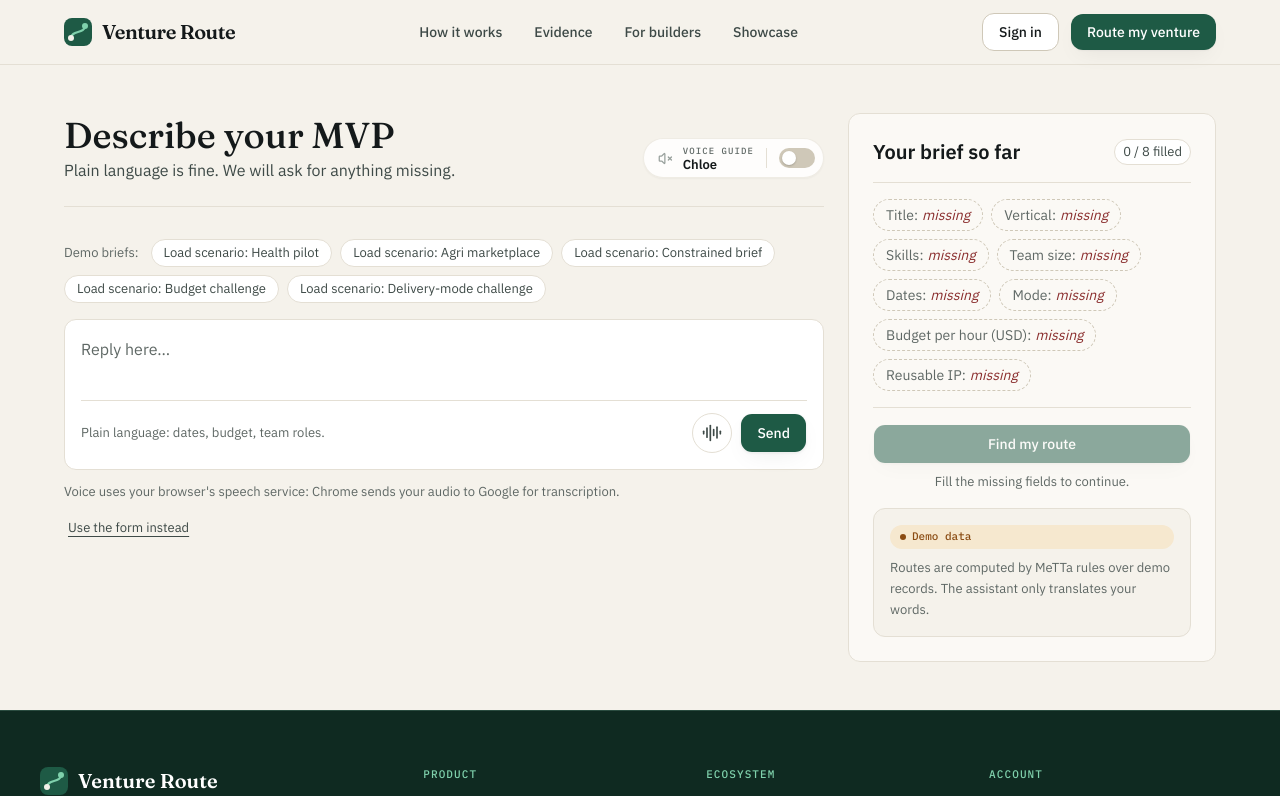
Chloe on /route › a no-speech failure in voice mode just reopens the mic: no error line, nothing spoken, nothing sent (D-55)
What coordinates should you click on to do the following:
click the switch named "Voice: Chloe"
I would click on:
 (797, 158)
Its box is [779,148,815,168].
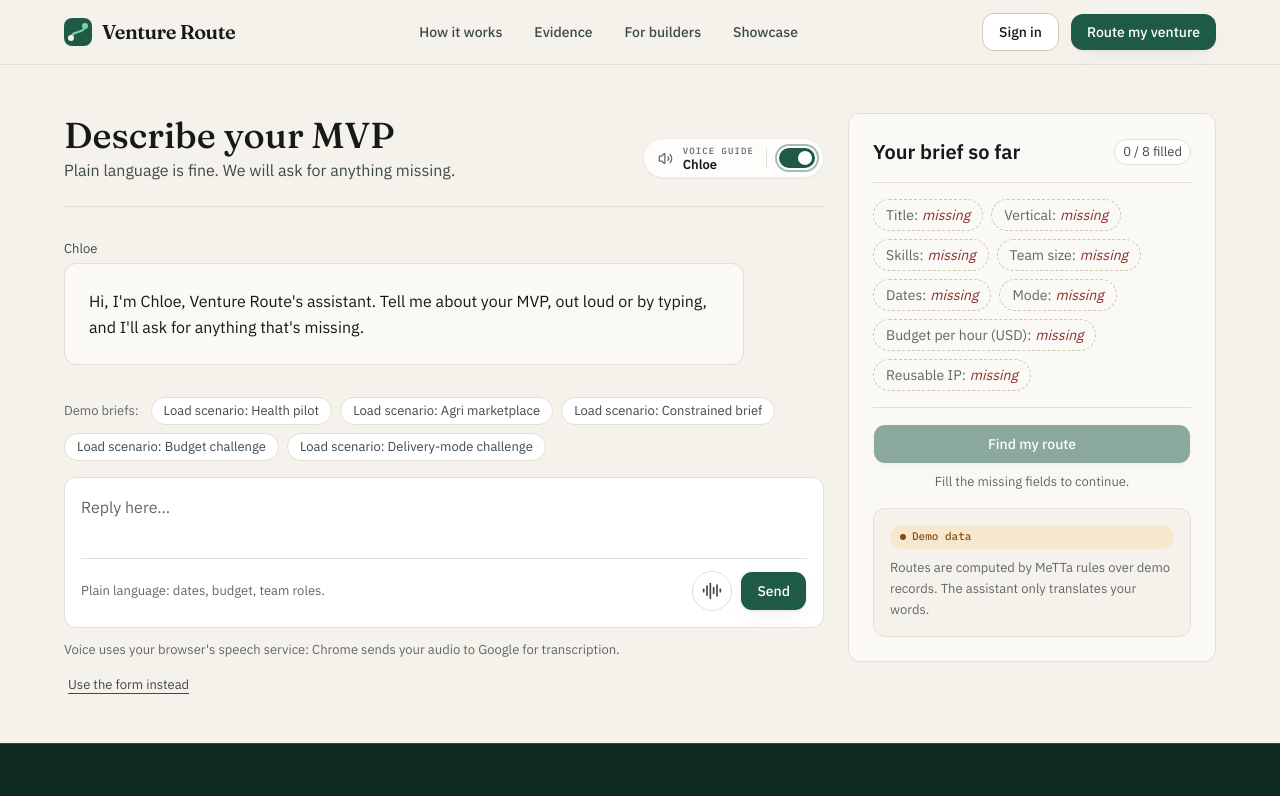
Expected: the switch named "Voice: Chloe" is checked, [779,148,815,168]
What coordinates should you click on to do the following:
click the button named "Start voice mode"
I would click on:
 (712, 590)
Its box is [692,570,732,610].
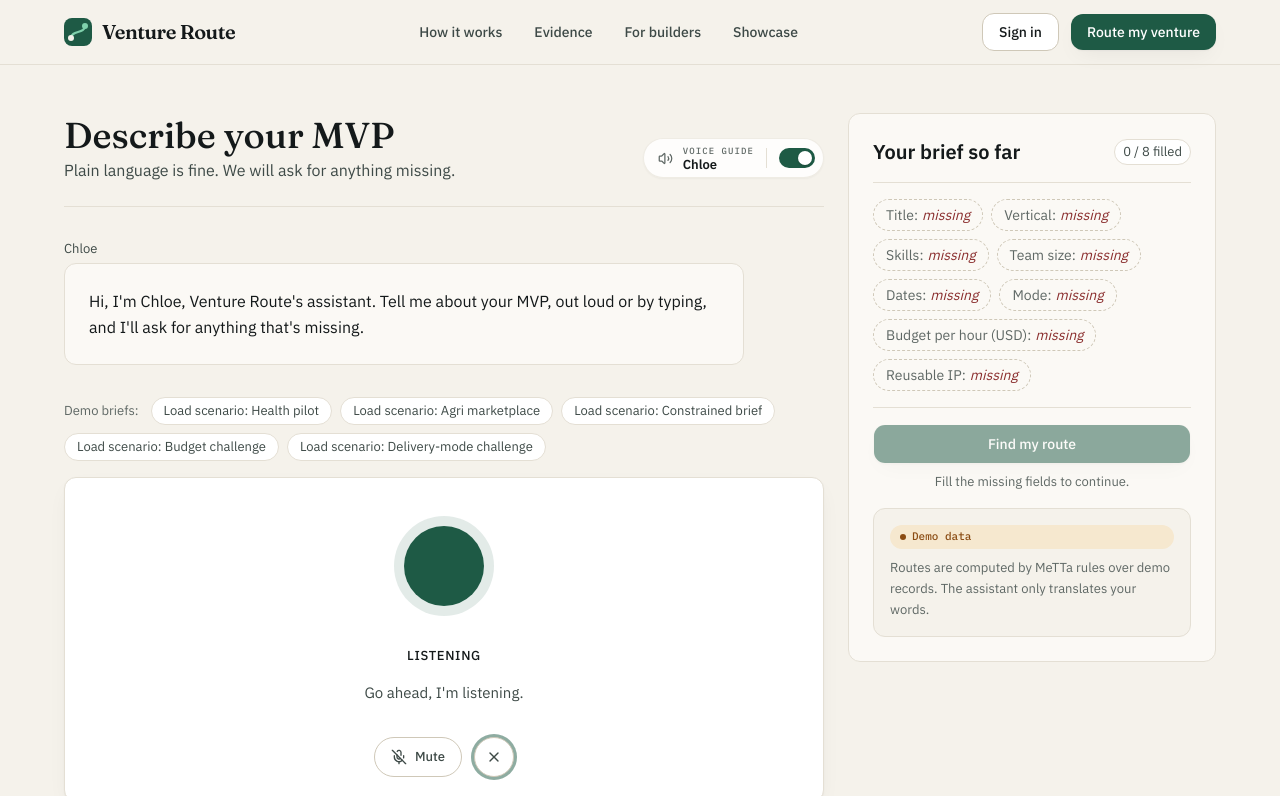
Expected: the text "Routes are computed by MeTTa rules over demo records. The assistant only translates your" is shown, [890,558,1170,618]
Expected: the text with test id "voice-mode-state" reads "Listening", [407,646,481,664]
